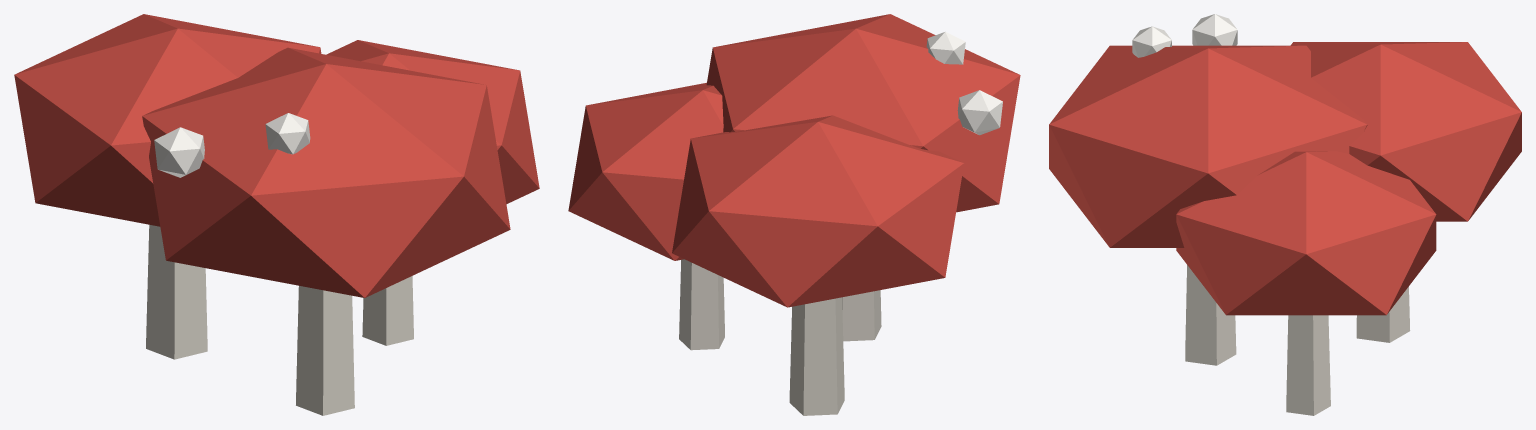
File: mushroom_cluster_red_spotted.glb
3 renders of one model, left to right at view 1: azimuth 30°, elevation 25°; view 2: azimuth 150°, elevation 25°; view 3: azimuth 270°, elevation 25°, orthographic. The views are drawn at different scales.
Visible parts, largest first — view 1: mushroom_cluster_red_spotted; view 2: mushroom_cluster_red_spotted; view 3: mushroom_cluster_red_spotted.
Part boxes in pixels (x1,y1,x2,y2): mushroom_cluster_red_spotted: (14, 14, 539, 415); mushroom_cluster_red_spotted: (568, 14, 1020, 415); mushroom_cluster_red_spotted: (1049, 14, 1521, 415).
Bounding box in the file's own units: 0.3541 × 0.2584 × 0.3619.
